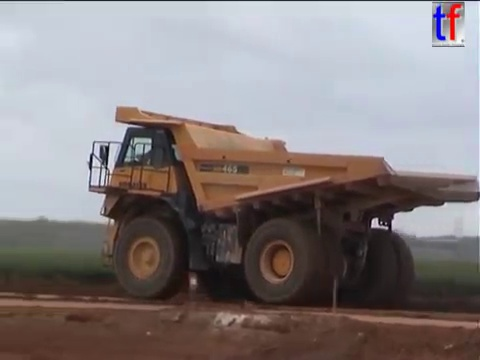truck: (84, 103, 480, 308)
